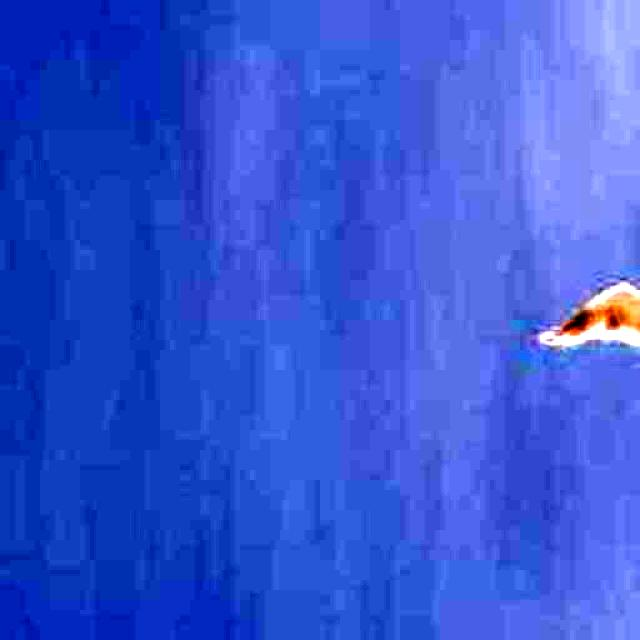airplane: (539, 258, 640, 416)
